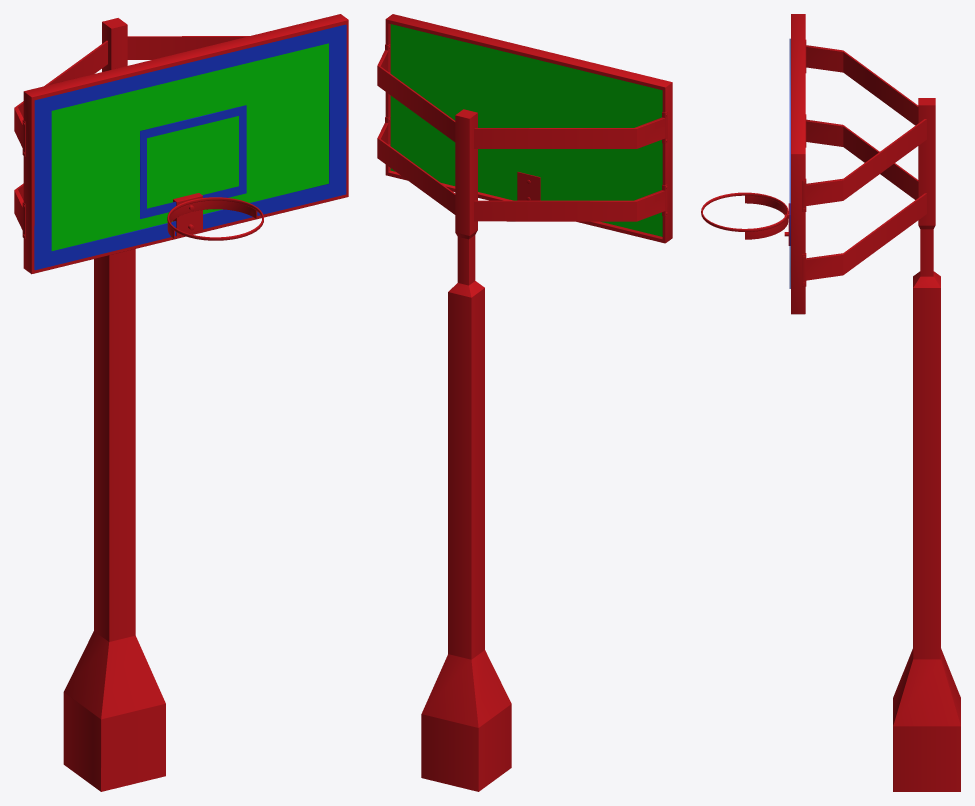
Rendered from Basket 2.fbx.
3 views of the same model, side by side, from view 1: azimuth 30°, elevation 25°; view 2: azimuth 150°, elevation 25°; view 3: azimuth 270°, elevation 25° (orthographic). The views are drawn at different scales.
Visible parts, largest first — view 1: Plane01, Object01, Object03; view 2: Plane01, Object01; view 3: Plane01, Object03.
Boxes of the visible parts, x1=… form: Plane01: x1=14, y1=14, x2=348, y2=791; Object01: x1=51, y1=43, x2=328, y2=250; Object03: x1=34, y1=24, x2=346, y2=270; Plane01: x1=377, y1=14, x2=672, y2=791; Object01: x1=390, y1=24, x2=662, y2=236; Plane01: x1=701, y1=14, x2=960, y2=791; Object03: x1=789, y1=38, x2=790, y2=288.
Bounding box in the file's own units: 171 × 391 × 133.
